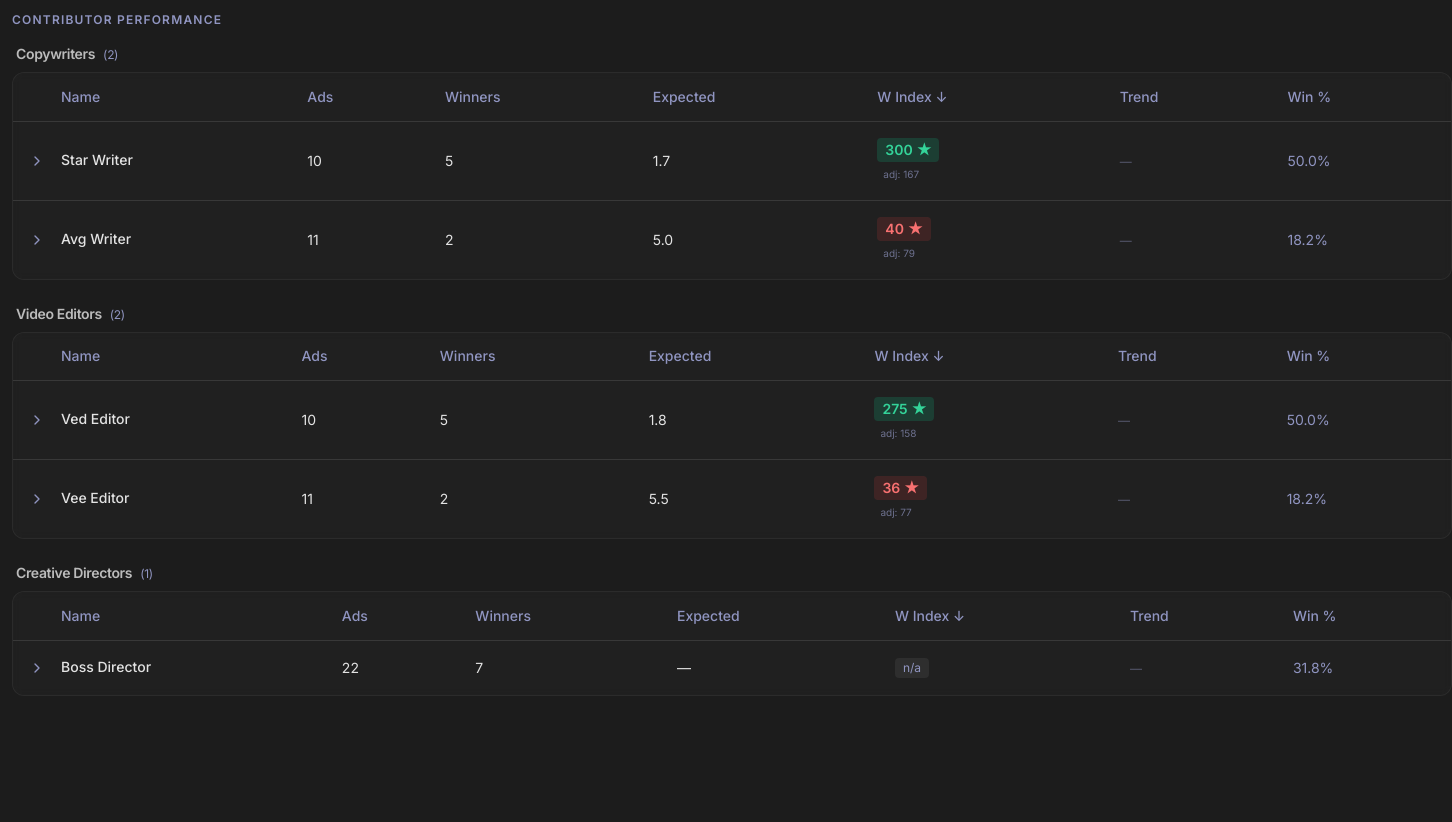
Test case: Winners UI renders › expanding a row renders the per-client breakdown
The width and height of the screenshot is (1452, 822).
Click the text "Star Writer 10 5 1.7 300 ★ adj: 167 — 50.0%" at (732,160), box [13,121,1451,200]
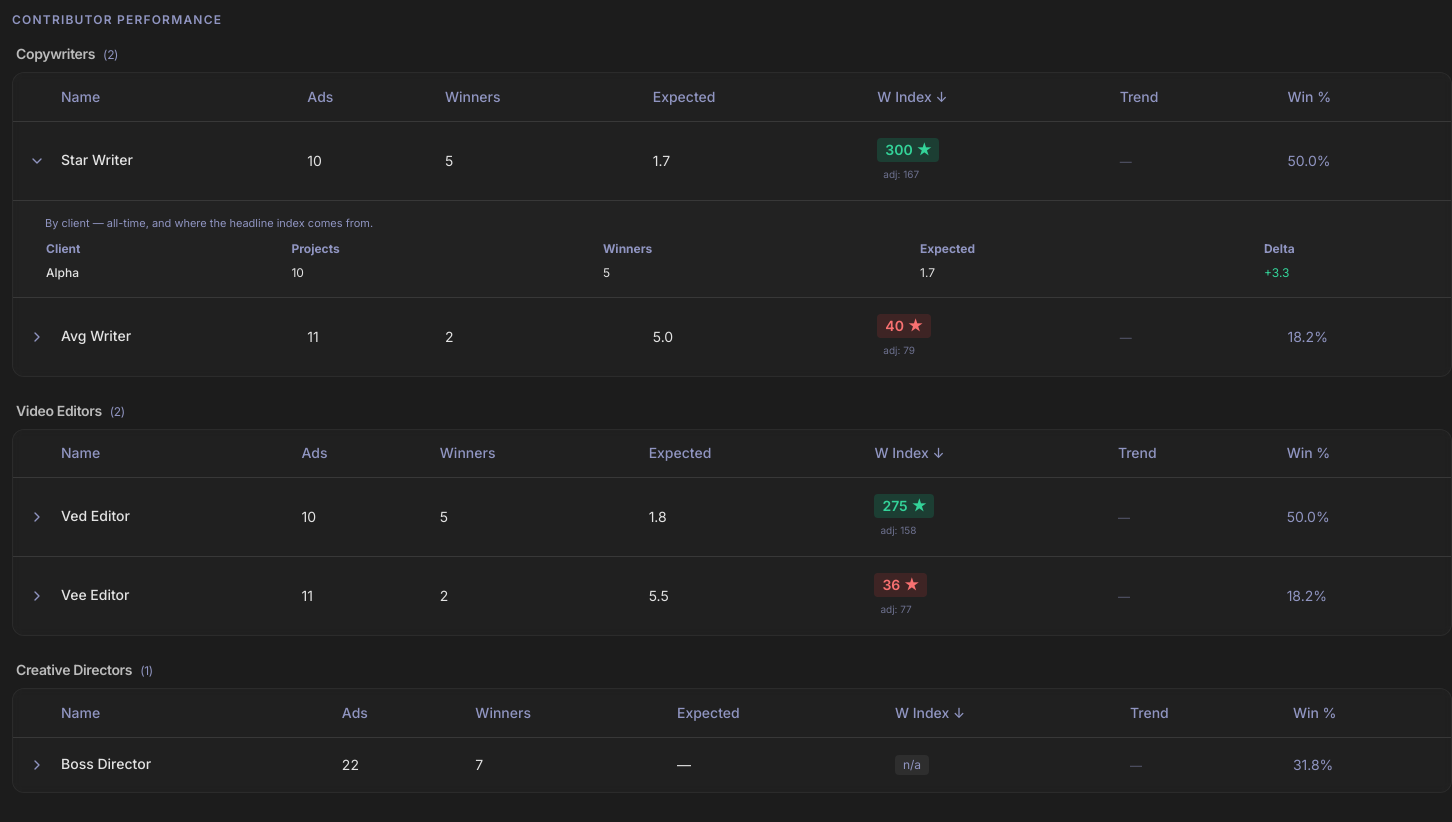
Now the column heading "Delta" is shown, box [1263,236,1419,260]
